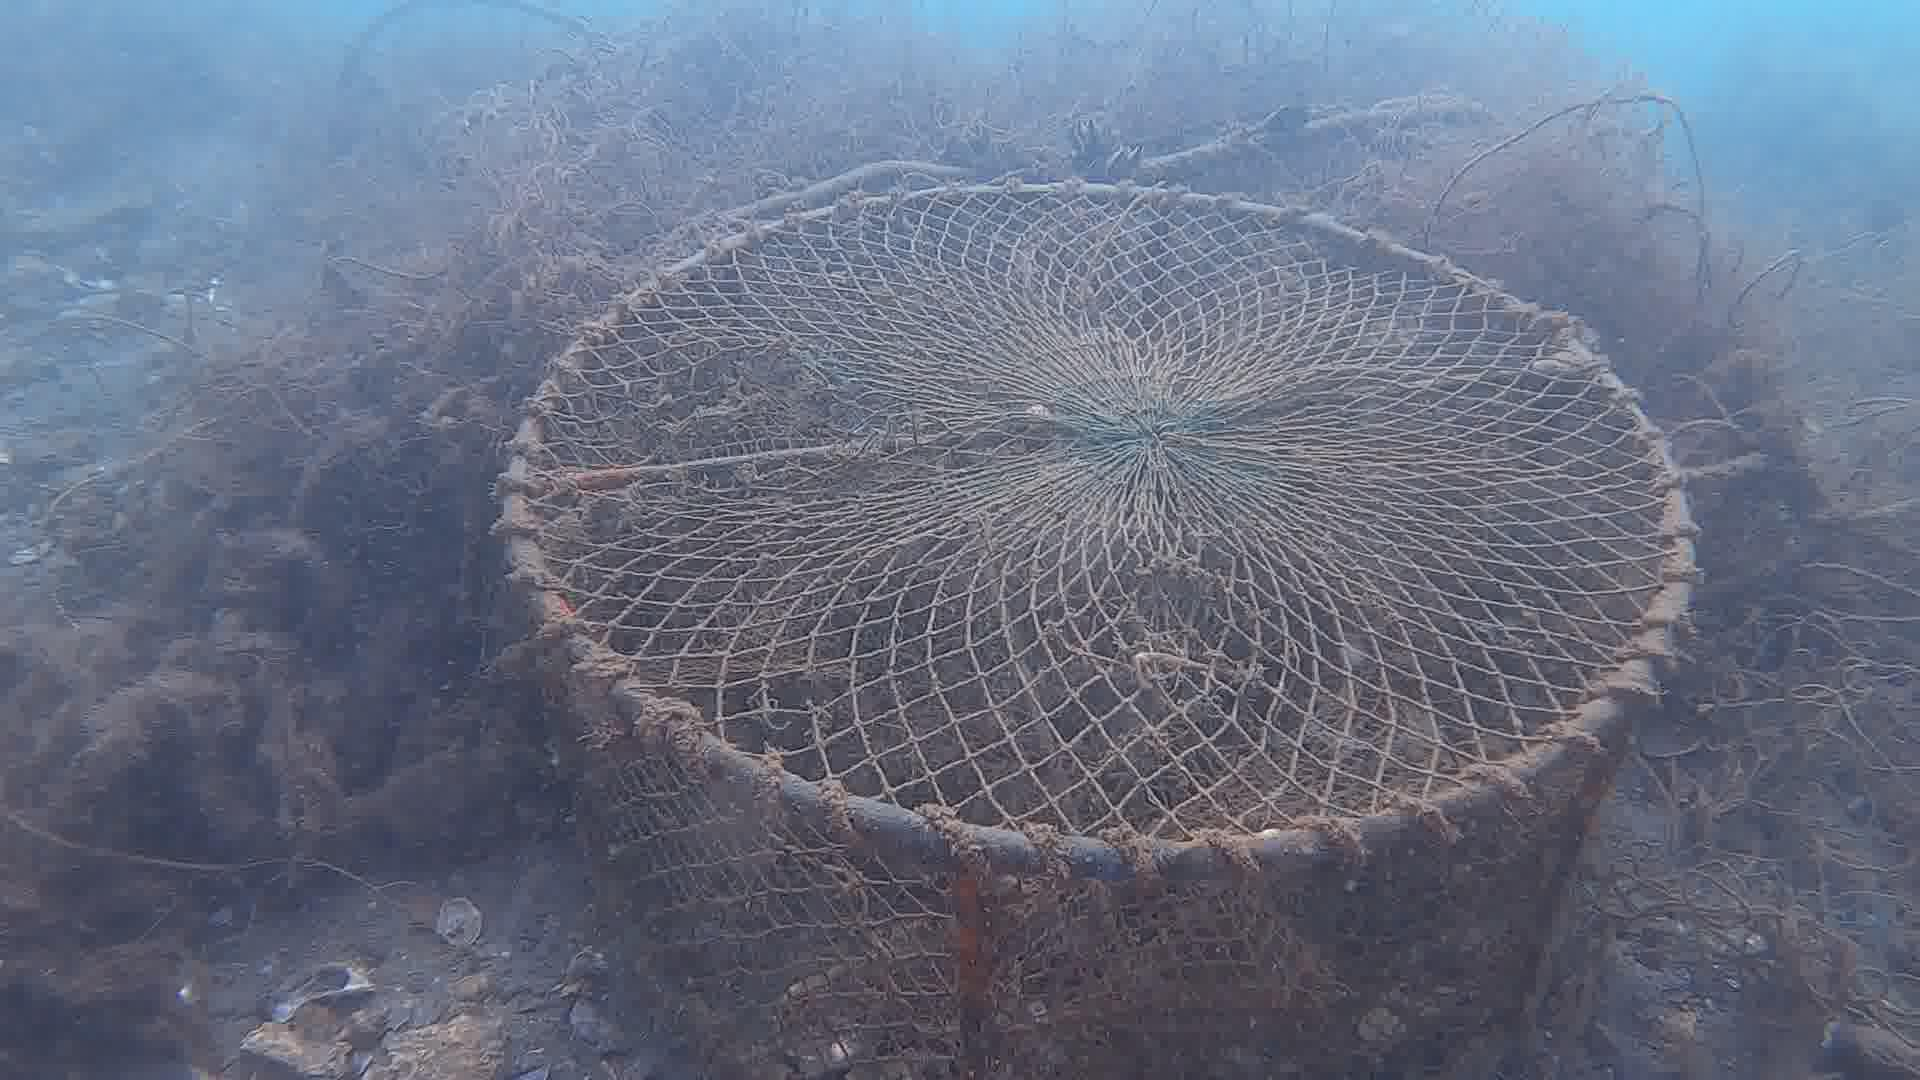circular fish trap: (487, 174, 1704, 1080)
